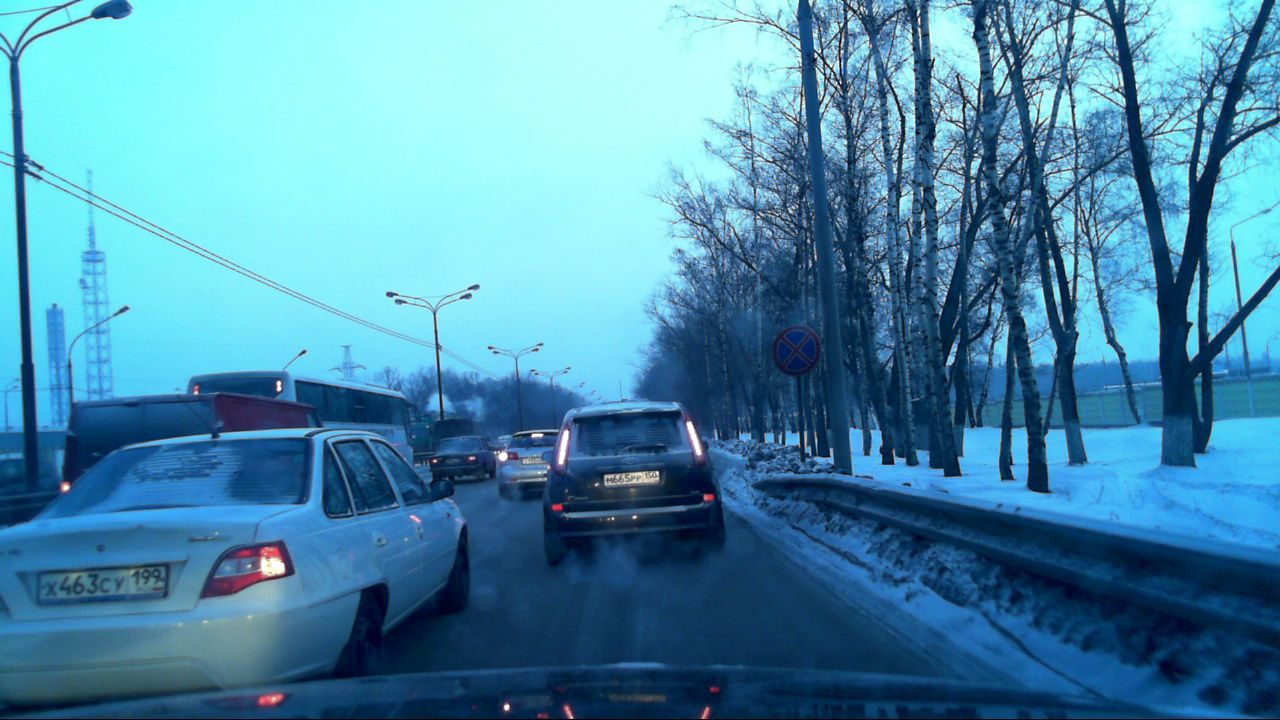No Parking: (770, 328, 821, 378)
